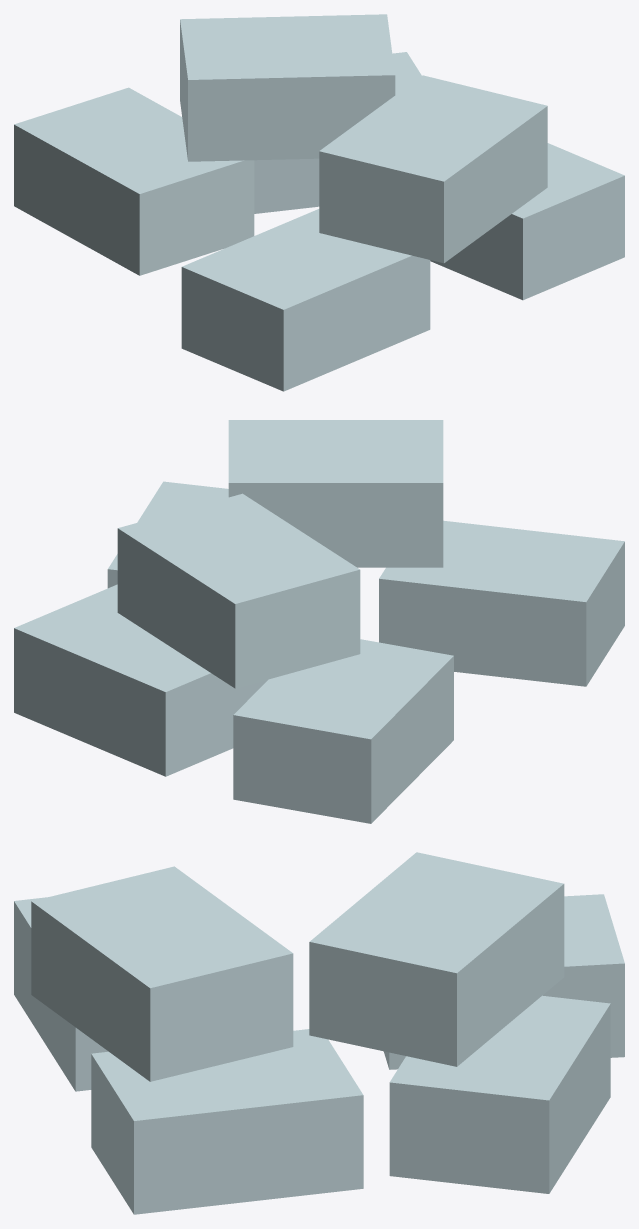
File: debris.glb
3 renders of one model, top to bottom at view 1: azimuth 30°, elevation 25°; view 2: azimuth 150°, elevation 25°; view 3: azimuth 270°, elevation 25°, orthographic. The views are drawn at different scales.
Parts seen in each view (by area): view 1: debris; view 2: debris; view 3: debris.
Boxes of the visible parts, x1,y1,x2,y2 form: debris: [14, 14, 624, 391]; debris: [14, 420, 624, 823]; debris: [14, 852, 624, 1214].
Bounding box in the file's own units: 0.4365 × 0.16 × 0.4731.
